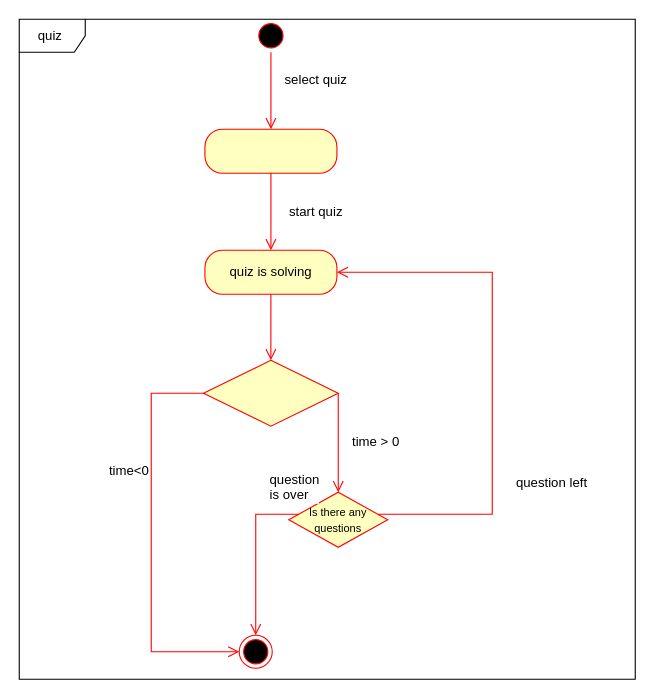
This 655x699 diagram has some shape labels left out. Each missing label, with the centre of its shape:
"How much time is left?" belongs at point (270, 392).
"quiz selected" belongs at point (270, 150).
